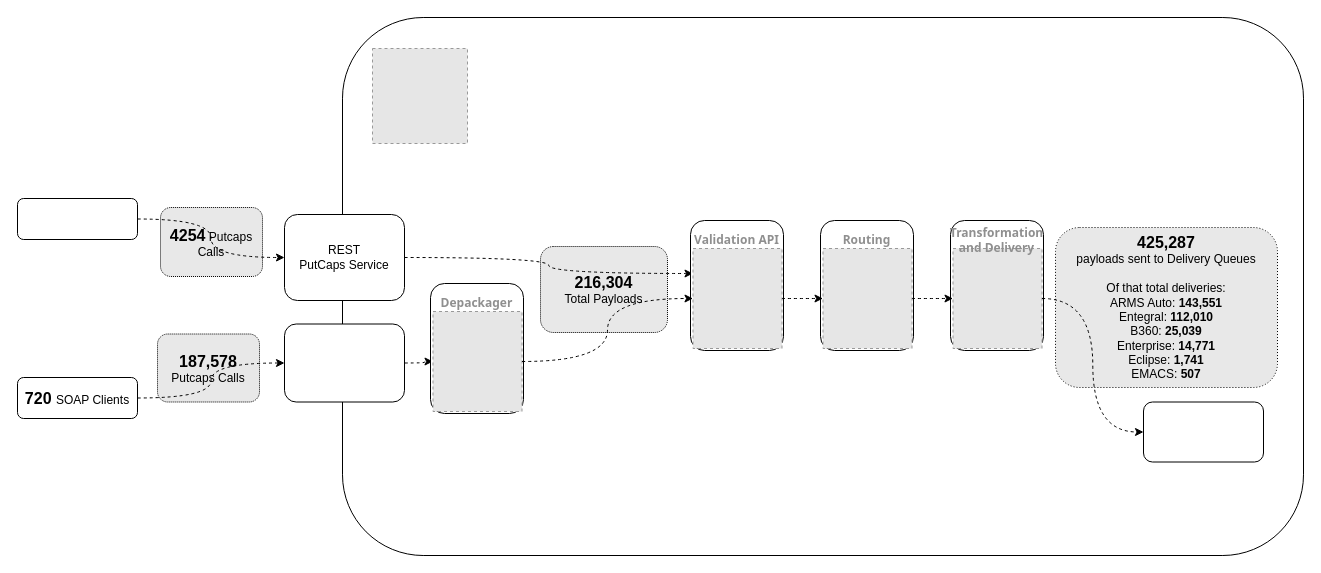
Some shapes in this 1321 by 573 pixel diagram are drawn without their labels. Grey dashed boxes stand in for pictures. The shapes that lost their labels are listed below. From the top down, each one's centre as x and y in pixels, then its label:
At [77,219]: "32 REST Clients".
At [344,362]: "SOAP PutCaps Service".
At [1203,431]: "Delivery Queues".
